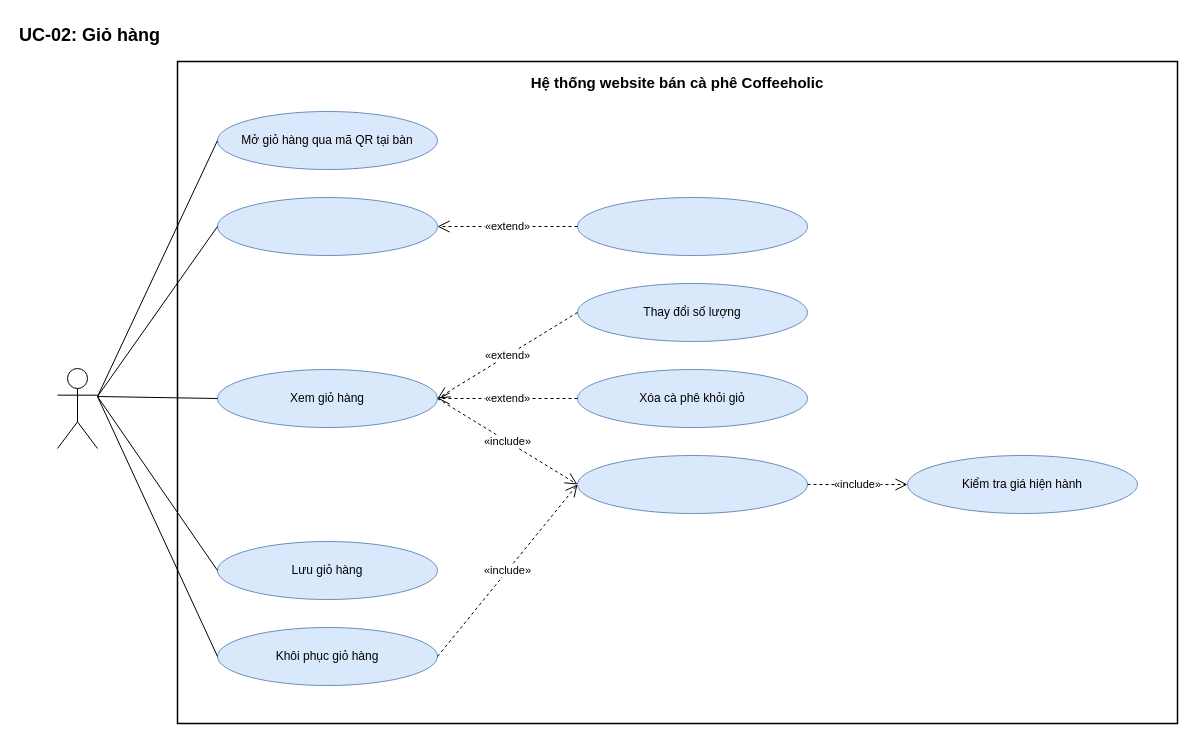
This 1195x741 diagram has some shape labels left out. Each missing label, with the centre of its shape:
"Ghi chú món (ít đá, ít đường...)" belongs at point (692, 226).
"Khách hàng" belongs at point (77, 408).
"Thêm cà phê vào giỏ" belongs at point (327, 226).
"Tính tạm tính" belongs at point (692, 484).
